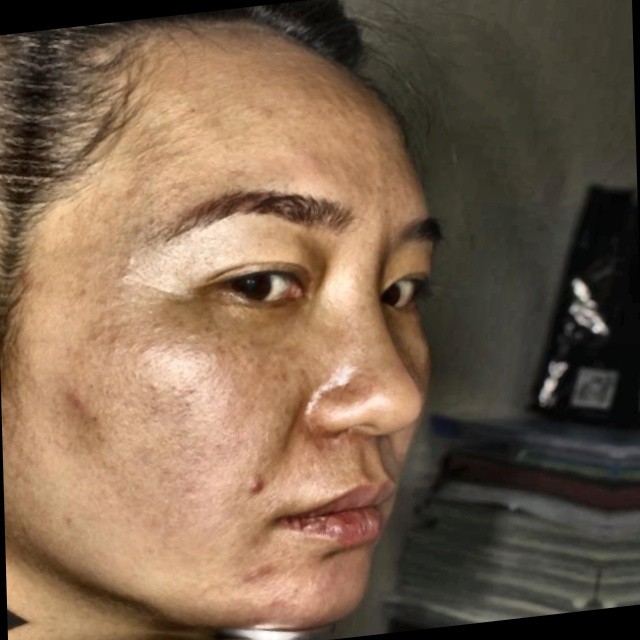comedone: (54, 378, 105, 432), (239, 469, 276, 498)
